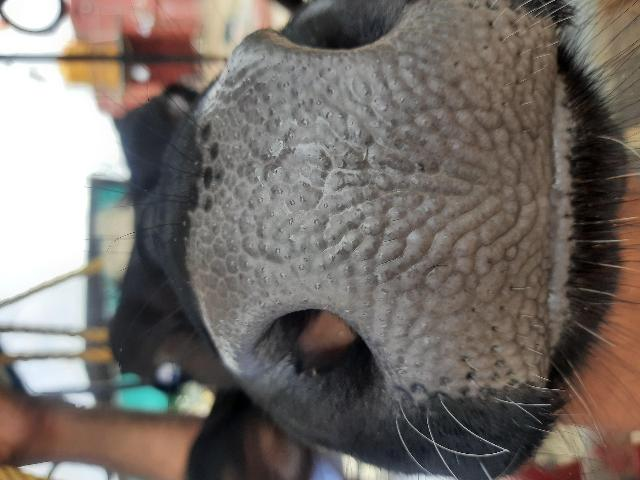Muzzle: (216, 67, 546, 299)
